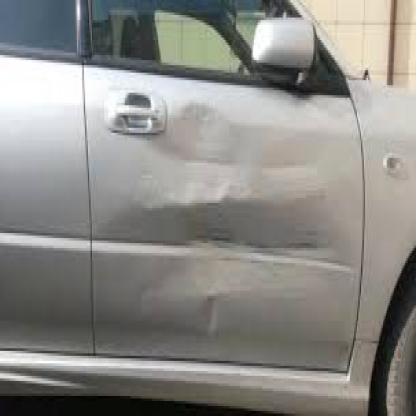dent: (141, 168, 301, 236), (188, 282, 221, 345)
